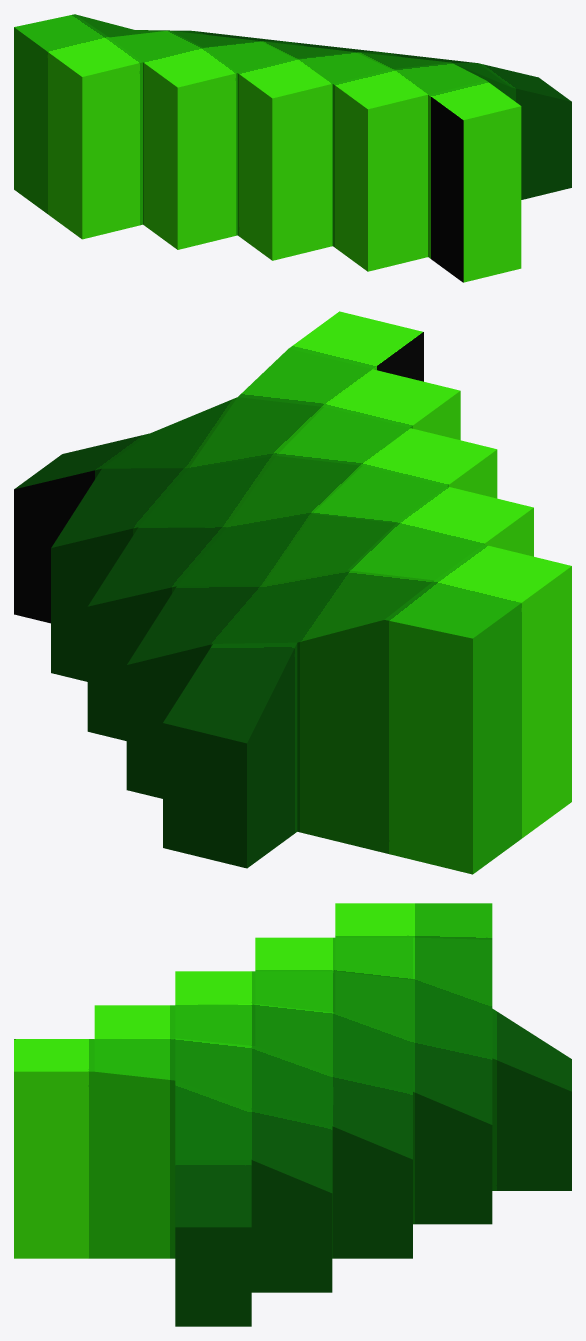
Rendered from garbage_415x12.gltf.
3 views of the same model, one above another, from view 1: azimuth 30°, elevation 25°; view 2: azimuth 150°, elevation 25°; view 3: azimuth 270°, elevation 25° (orthographic). The views are drawn at different scales.
Visible parts, largest first — view 1: garbage_415x12; view 2: garbage_415x12; view 3: garbage_415x12.
Boxes of the visible parts, x1=… form: garbage_415x12: x1=14, y1=14, x2=571, y2=282; garbage_415x12: x1=14, y1=311, x2=571, y2=874; garbage_415x12: x1=14, y1=903, x2=571, y2=1326.
Bounding box in the file's own units: 0.4339 × 0.1602 × 0.4334.
Materials: 1 (1 with a texture image).
